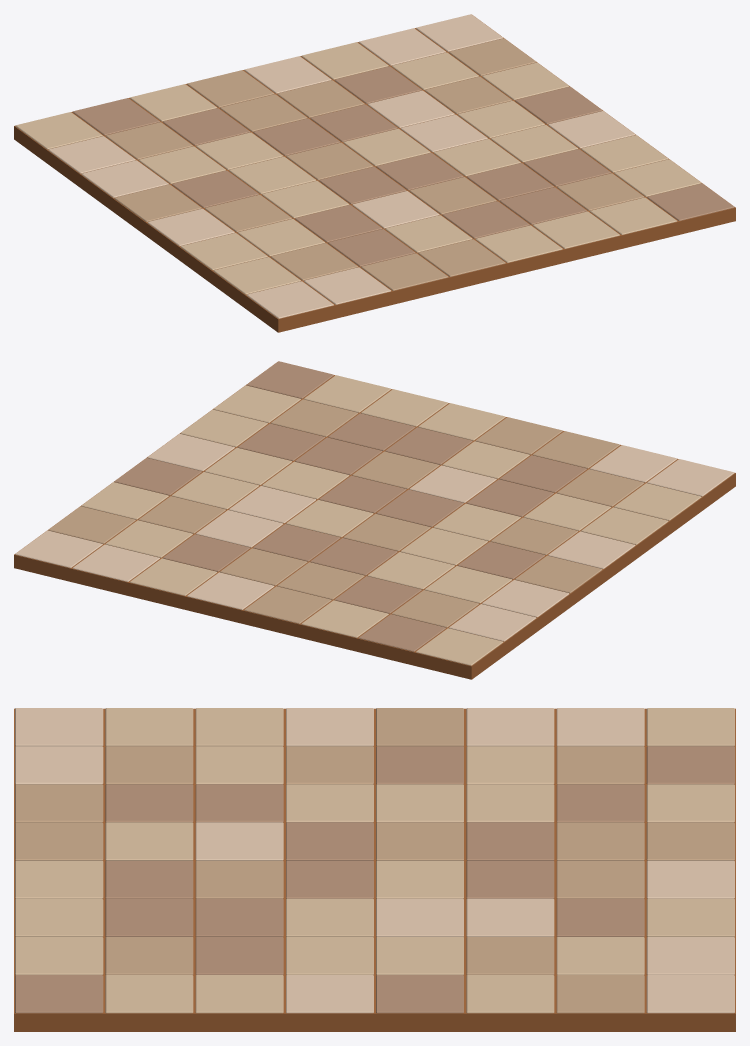
File: floor_tile.glb
The picture shows the model from 3 angles, top to bottom: view 1: azimuth 30°, elevation 25°; view 2: azimuth 150°, elevation 25°; view 3: azimuth 270°, elevation 25°; orthographic projection. The views are drawn at different scales.
Parts seen in each view (by area): view 1: Ladrilho.004, Ladrilho.007, Ladrilho.002, Ladrilho, Rejunte; view 2: Ladrilho.004, Ladrilho.007, Ladrilho.002, Ladrilho, Rejunte; view 3: Ladrilho.004, Ladrilho.007, Ladrilho.002, Ladrilho, Rejunte.
Part boxes in pixels (box(x1,y1,x2,y2)): Ladrilho.004: box(15, 42, 701, 294); Ladrilho.007: box(72, 66, 734, 266); Ladrilho.002: box(105, 38, 643, 290); Ladrilho: box(48, 14, 635, 318); Rejunte: box(14, 15, 735, 332); Ladrilho.004: box(81, 375, 701, 665); Ladrilho.007: box(114, 361, 586, 651); Ladrilho.002: box(48, 399, 644, 627); Ladrilho: box(15, 434, 734, 641); Rejunte: box(14, 362, 735, 679); Ladrilho.004: box(15, 708, 734, 1013); Ladrilho.007: box(15, 746, 734, 1013); Ladrilho.002: box(15, 708, 734, 1013); Ladrilho: box(15, 708, 734, 1013); Rejunte: box(14, 708, 735, 1031).
Size of the model in its own units: 2.5 by 0.075 by 2.5.
